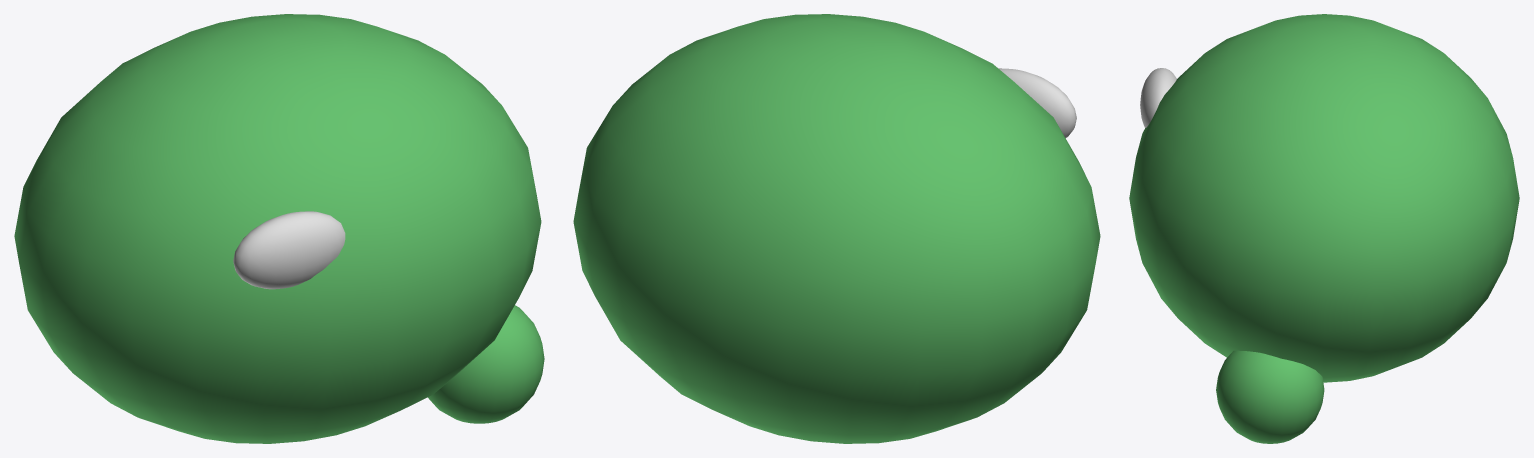
Rendered from mat_goo.glb.
The picture shows the model from 3 angles, left to right: view 1: azimuth 30°, elevation 25°; view 2: azimuth 150°, elevation 25°; view 3: azimuth 270°, elevation 25°; orthographic projection. The views are drawn at different scales.
Parts seen in each view (by area): view 1: _sphere; view 2: _sphere; view 3: _sphere.
Boxes of the visible parts, left/top/right/bottom form: _sphere: left=14, top=14, right=544, bottom=443; _sphere: left=573, top=14, right=1100, bottom=443; _sphere: left=1129, top=14, right=1519, bottom=443.
Bounding box in the file's own units: 0.84 × 0.67 × 0.72.
